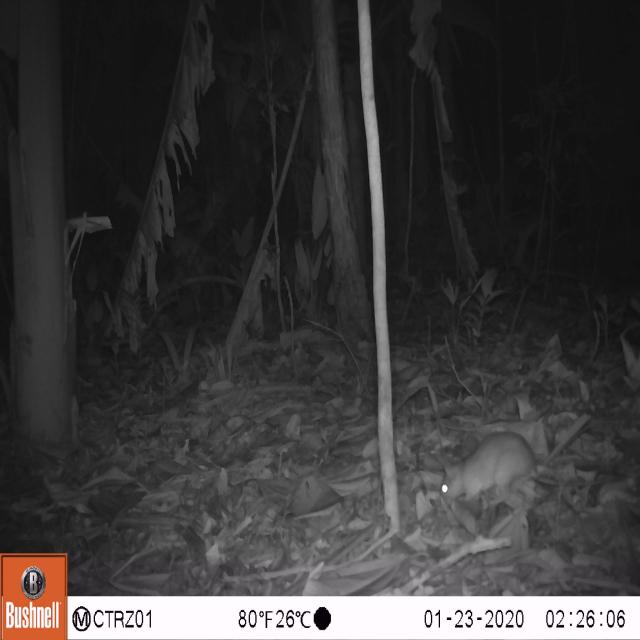Rodent: (420, 400, 565, 554)
